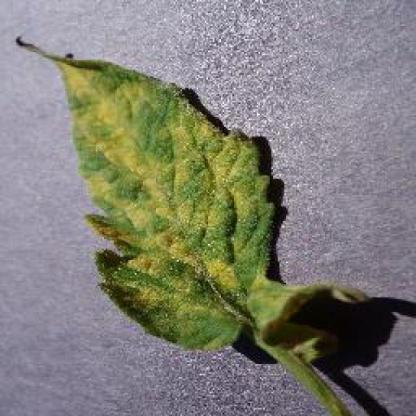Tomato_Leaf_Mold: (14, 34, 366, 416)
